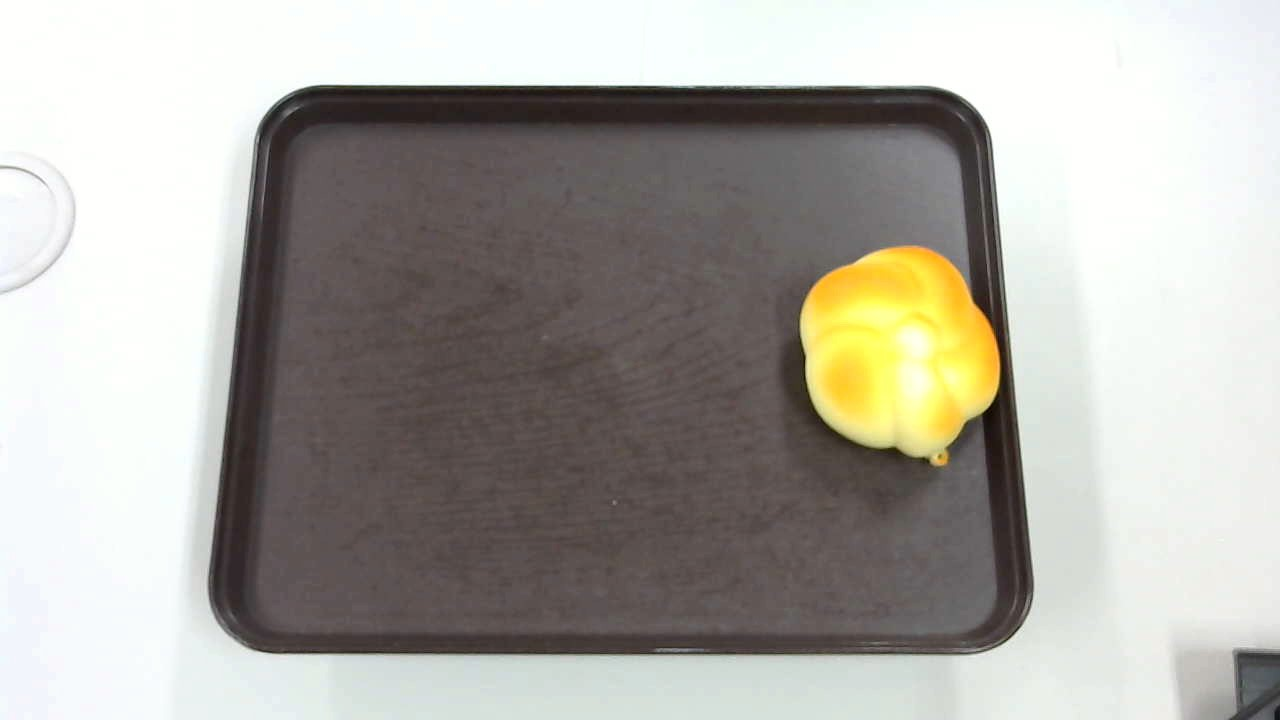twist bread: (799, 243, 1001, 466)
